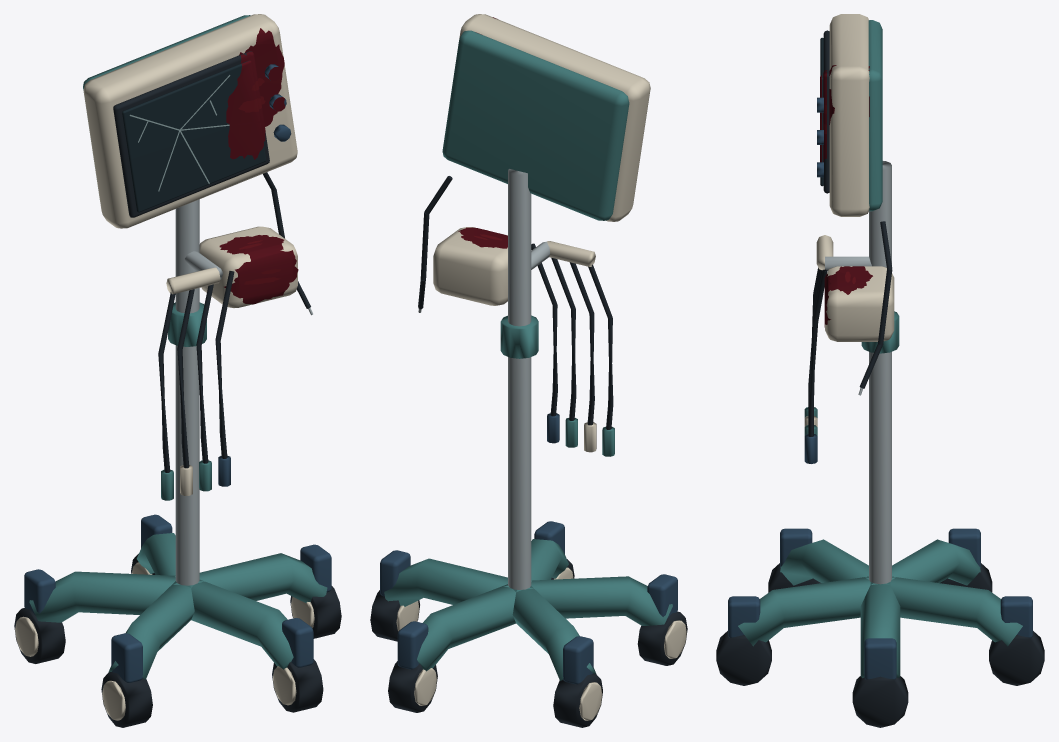
Rendered from patient_monitor.glb.
3 views of the same model, side by side, from view 1: azimuth 30°, elevation 25°; view 2: azimuth 150°, elevation 25°; view 3: azimuth 270°, elevation 25° (orthographic). The views are drawn at different scales.
Parts seen in each view (by area): view 1: OB_PatientMonitor_01_Static; view 2: OB_PatientMonitor_01_Static; view 3: OB_PatientMonitor_01_Static.
Boxes of the visible parts, bbox=[...] form: OB_PatientMonitor_01_Static: bbox=[14, 14, 341, 727]; OB_PatientMonitor_01_Static: bbox=[370, 14, 687, 727]; OB_PatientMonitor_01_Static: bbox=[716, 14, 1044, 727].
Bounding box in the file's own units: 0.6238 × 1.49 × 0.7096.
